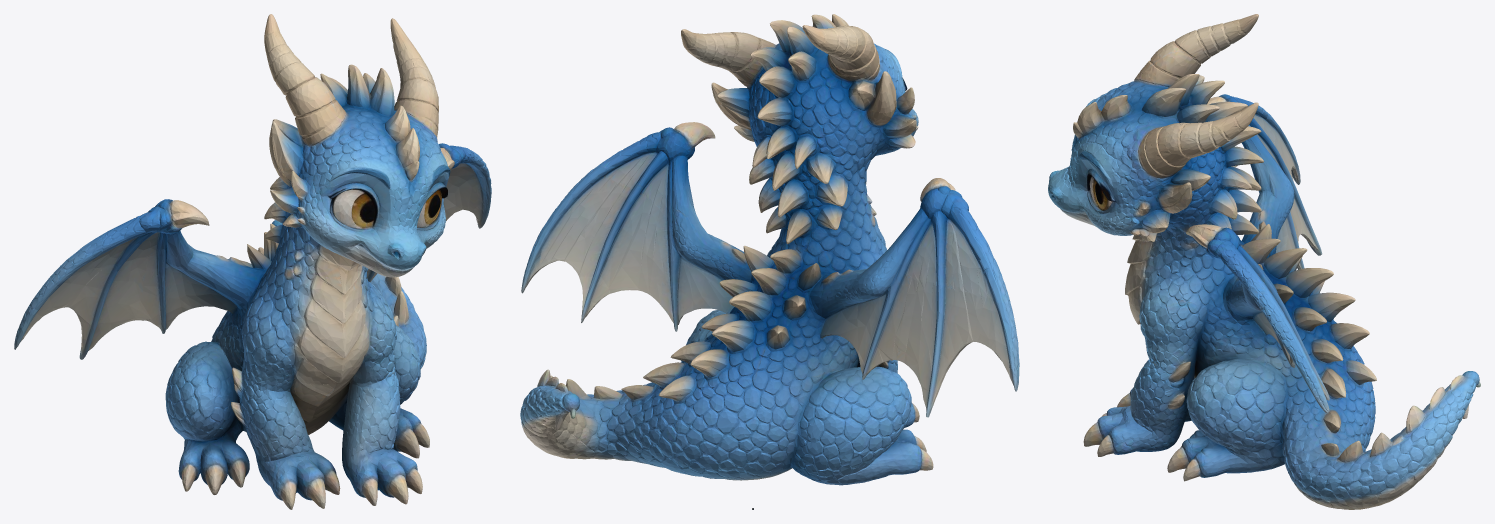
File: comparison-hi3d-quality.glb
3 renders of one model, left to right at view 1: azimuth 30°, elevation 25°; view 2: azimuth 150°, elevation 25°; view 3: azimuth 270°, elevation 25°, orthographic. The views are drawn at different scales.
Visible parts, largest first — view 1: world; view 2: world; view 3: world.
Boxes of the visible parts, bbox=[...] form: world: bbox=[14, 14, 491, 509]; world: bbox=[520, 14, 1019, 509]; world: bbox=[1048, 14, 1480, 509].
Size of the model in its own units: 0.9989 by 0.9347 by 0.8176.
1 material, 1 textured.
